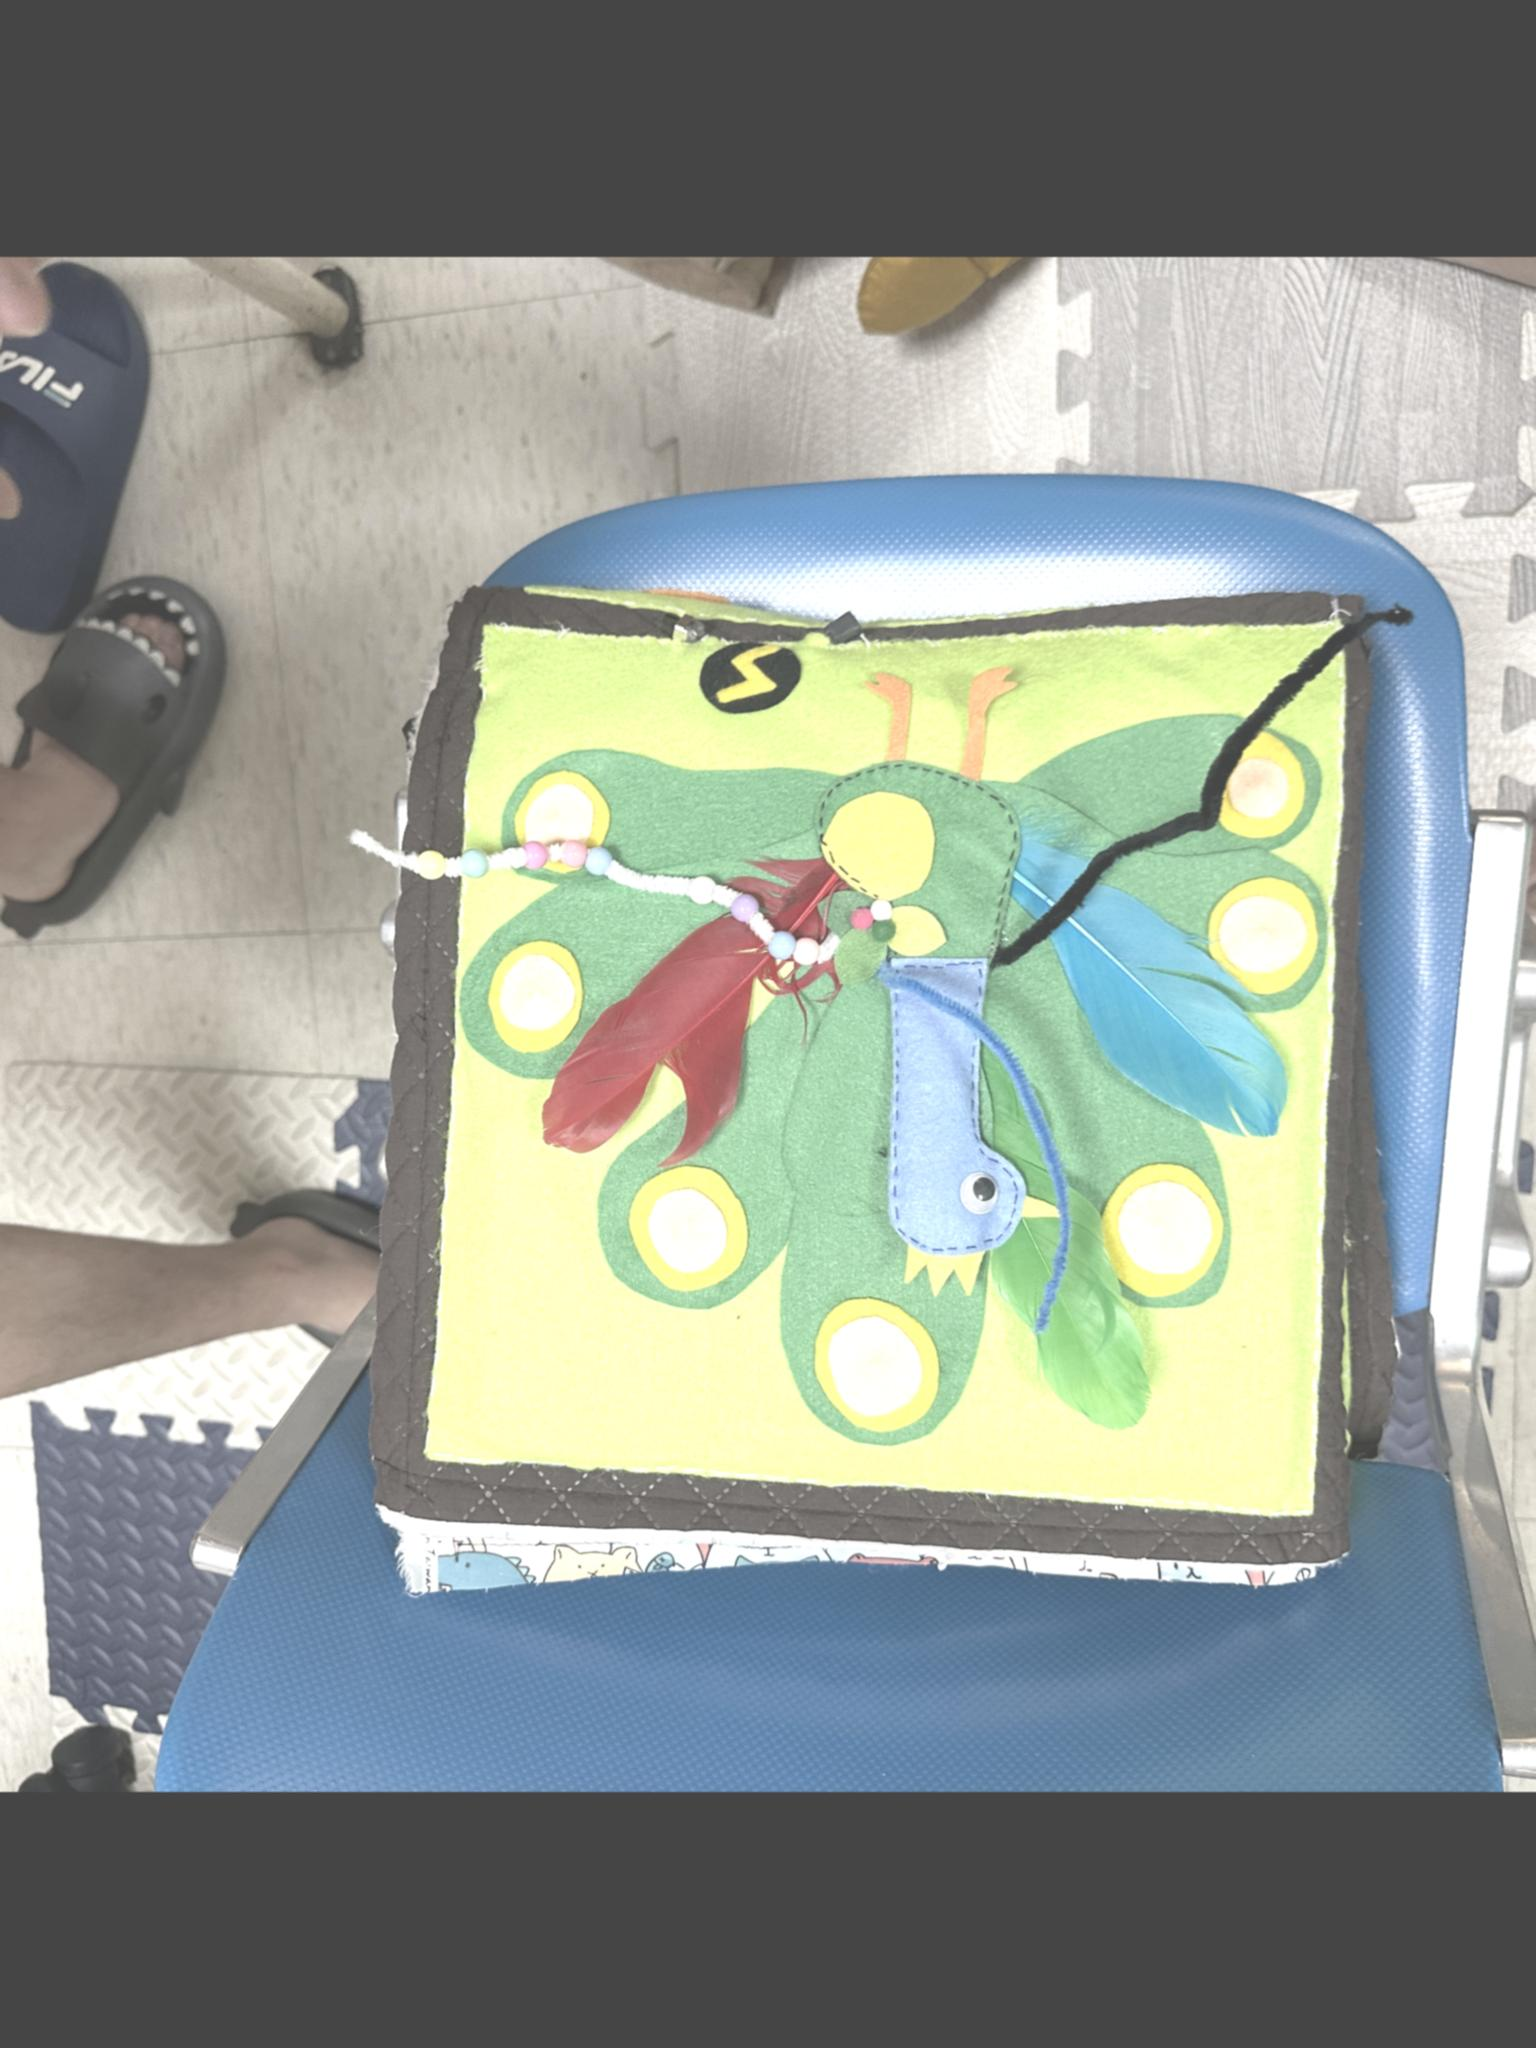bead: (668, 858, 724, 916), (449, 845, 495, 890), (400, 843, 444, 890), (784, 926, 820, 979), (581, 821, 615, 869), (721, 885, 763, 921), (516, 822, 547, 868), (762, 924, 792, 963), (550, 832, 582, 863)
